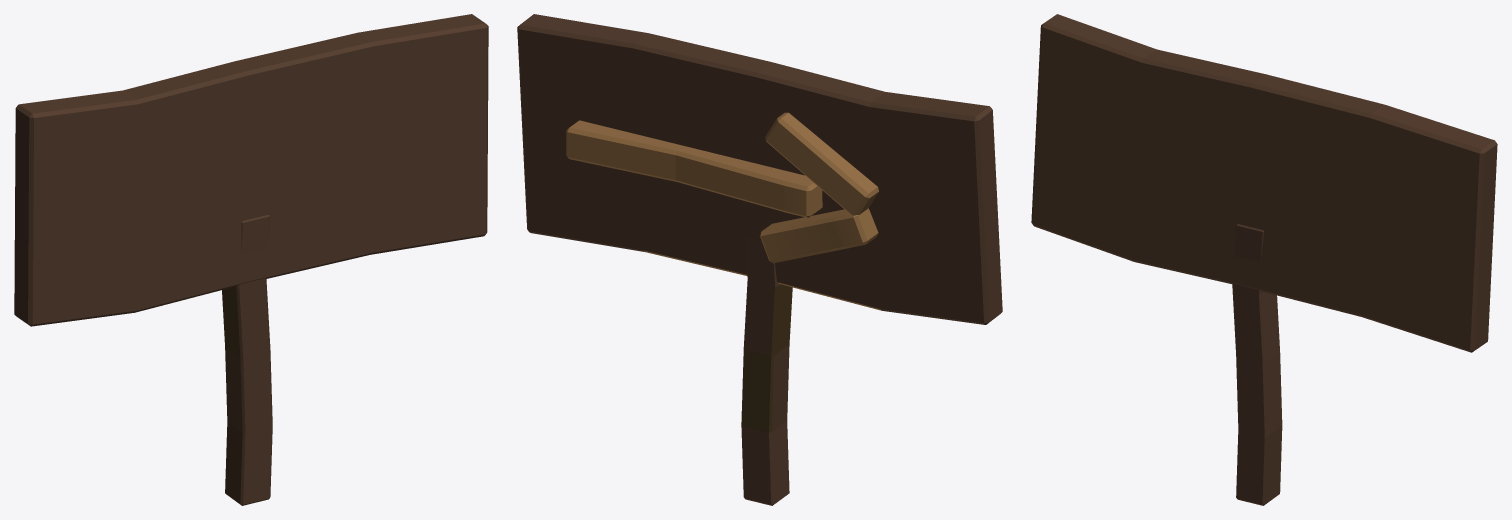
File: Schild.fbx
The picture shows the model from 3 angles, left to right: view 1: azimuth 30°, elevation 25°; view 2: azimuth 150°, elevation 25°; view 3: azimuth 330°, elevation 25°; orthographic projection. The views are drawn at different scales.
Parts seen in each view (by area): view 1: Schild; view 2: Schild; view 3: Schild.
Boxes of the visible parts, x1,y1,x2,y2 form: Schild: (14,14,488,505); Schild: (517,14,1002,505); Schild: (1031,14,1497,505).
Size of the model in its own units: 657 by 593 by 79.3.
